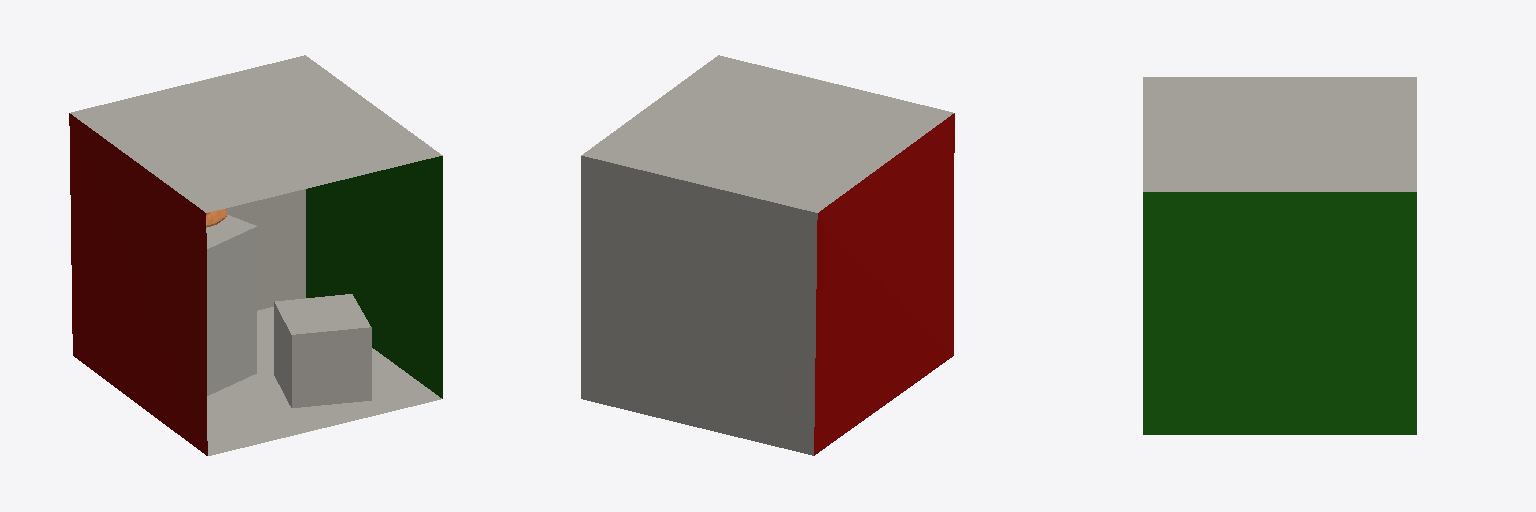
Rendered from cornelbox.obj.
3 views of the same model, side by side, from view 1: azimuth 30°, elevation 25°; view 2: azimuth 150°, elevation 25°; view 3: azimuth 270°, elevation 25° (orthographic).
Visible parts, largest first — view 1: CornellBox-Original; view 2: CornellBox-Original; view 3: CornellBox-Original.
Part boxes in pixels (bbox=[...]): CornellBox-Original: bbox=[69, 55, 442, 455]; CornellBox-Original: bbox=[581, 55, 954, 455]; CornellBox-Original: bbox=[1143, 77, 1416, 434].
Bounding box in the file's own units: 2.02 × 1.99 × 2.03.